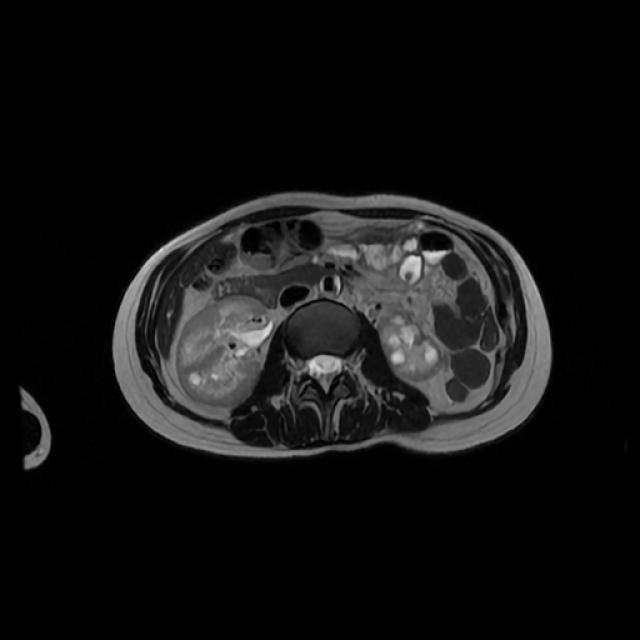sag: (175, 293, 270, 411)
sol: (378, 303, 442, 380)
